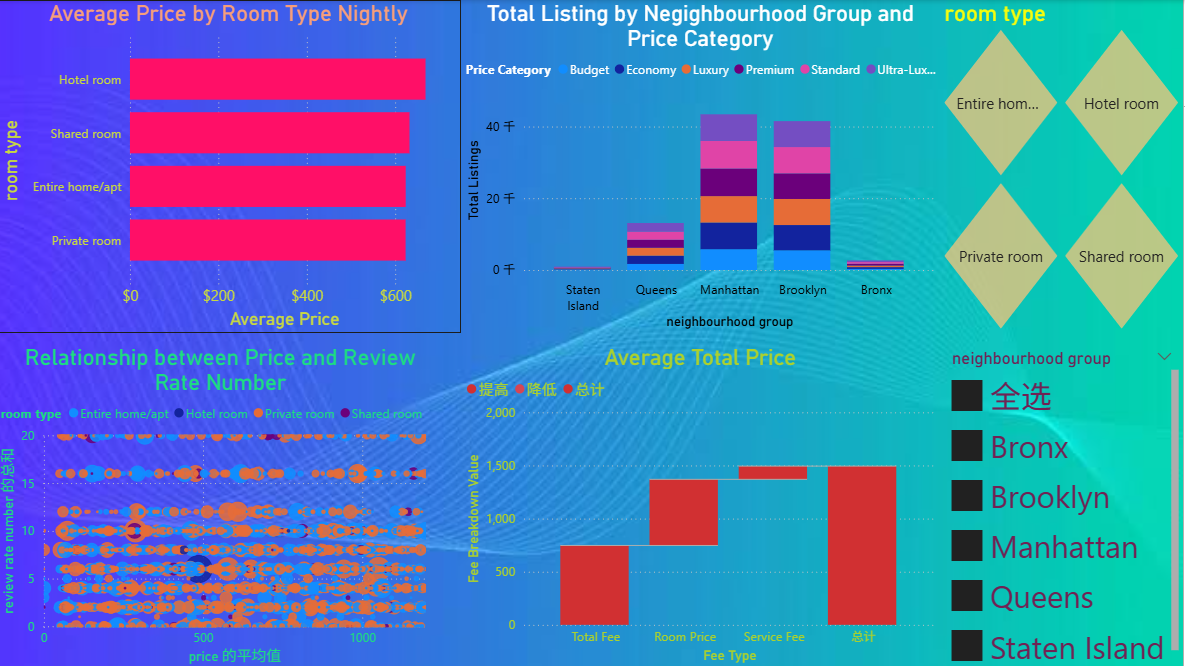

The page's visual inventory and layout, read from the dashboard file:
{"tool":"powerbi","page":{"name":"Prices & Room Type","canvas":[1280,720],"ordinal":1},"visuals":[{"type":"clusteredBarChart","title":" Average Price by Room Type Nightly","fields":{"Category":["DimRoom.room type"],"Y":["FactListings.Average Price"]},"box":[0,0,501.3,359.8],"z":0},{"type":"columnChart","title":"Total Listing by Negighbourhood Group and Price Category","fields":{"Category":["DimLocation.neighbourhood group"],"Y":["FactListings.Total Listings"],"Series":["FactListings.Price Category"]},"box":[501.3,0,516.2,359.8],"z":1000},{"type":"scatterChart","title":"Relationship between Price and Review Rate Number","fields":{"X":["Avg(FactListings.price)"],"Y":["Sum(FactListings.review rate number)"],"Category":["FactListings.id"],"Series":["DimRoom.room type"],"Size":["Sum(FactListings.number of reviews)"]},"box":[0,370.6,483.8,350.4],"z":2000},{"type":"waterfallChart","title":"Average Total Price","fields":{"Category":["Fee Breakdown.Fee Type"],"Y":["FactListings.Fee Breakdown Value"]},"box":[501.3,370.6,516.2,349],"z":3000},{"type":"advancedSlicerVisual","fields":{"Values":["DimRoom.room type"]},"box":[1017.5,0,262.8,359.8],"z":4000},{"type":"slicer","fields":{"Values":["DimLocation.neighbourhood group"]},"box":[1017.5,370.6,262.8,347.7],"z":5000}]}

Visuals, with their boxes in screenshot pixels (x1, y1, x2, y2), scaled from the page's 1280x720 canvas onto the 1185x666 screenshot:
" Average Price by Room Type Nightly" clusteredBarChart: (0, 0, 464, 333)
"Total Listing by Negighbourhood Group and Price Category" columnChart: (464, 0, 942, 333)
"Relationship between Price and Review Rate Number" scatterChart: (0, 343, 448, 665)
"Average Total Price" waterfallChart: (464, 343, 942, 665)
advancedSlicerVisual - DimRoom.room type: (942, 0, 1184, 333)
slicer - DimLocation.neighbourhood group: (942, 343, 1184, 664)
